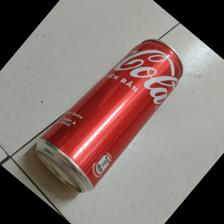Coca: (36, 37, 184, 194)
